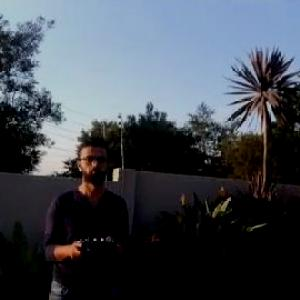follow: (32, 131, 132, 299)
